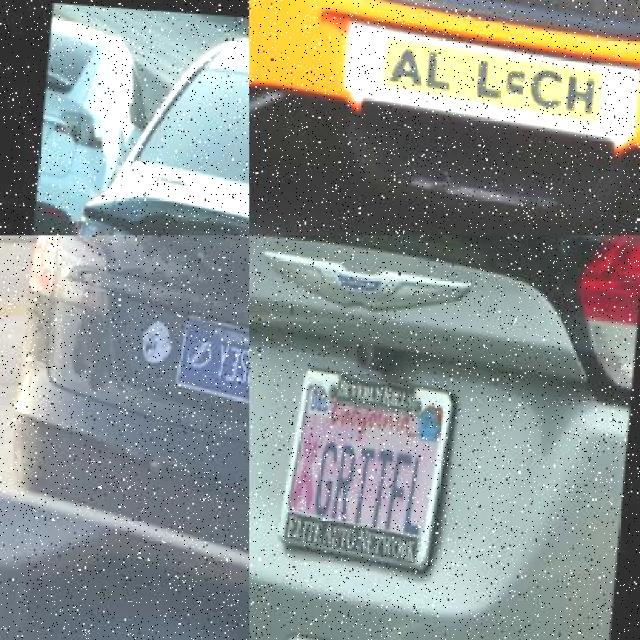licenseplate: (344, 18, 640, 139), (280, 363, 446, 572), (174, 309, 249, 401)
